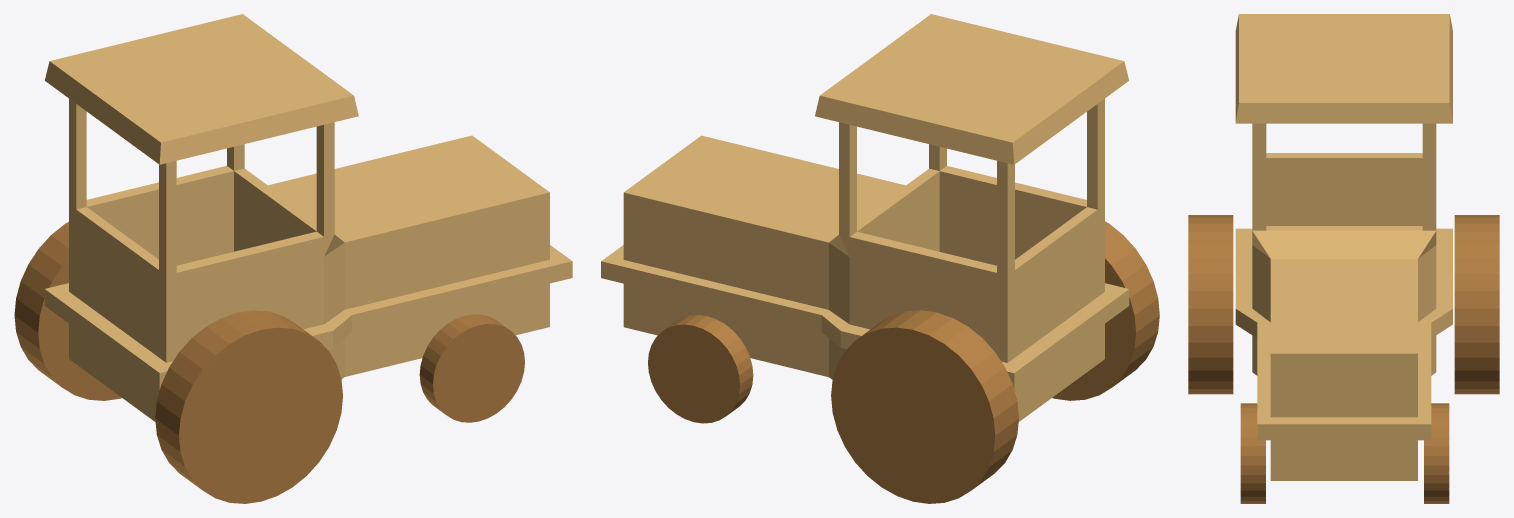
Rendered from ToyTractor.fbx.
3 views of the same model, side by side, from view 1: azimuth 30°, elevation 25°; view 2: azimuth 150°, elevation 25°; view 3: azimuth 270°, elevation 25° (orthographic). The views are drawn at different scales.
Parts seen in each view (by area): view 1: ToyTractor, WheelBR, WheelFR, WheelBL; view 2: ToyTractor, WheelBL, WheelFL, WheelBR; view 3: ToyTractor, WheelBL, WheelBR, WheelFL, WheelFR.
Part boxes in pixels (x1,y1,x2,y2): ToyTractor: [44, 14, 572, 421]; WheelBR: [155, 310, 342, 503]; WheelFR: [419, 314, 524, 422]; WheelBL: [14, 222, 121, 400]; ToyTractor: [601, 14, 1129, 421]; WheelBL: [831, 310, 1018, 503]; WheelFL: [648, 315, 753, 423]; WheelBR: [1052, 221, 1159, 400]; ToyTractor: [1235, 14, 1452, 480]; WheelBL: [1454, 215, 1499, 394]; WheelBR: [1188, 215, 1233, 394]; WheelFL: [1424, 403, 1449, 503]; WheelFR: [1240, 403, 1265, 503].
Bounding box in the file's own units: 41.9 × 33.28 × 27.76.
